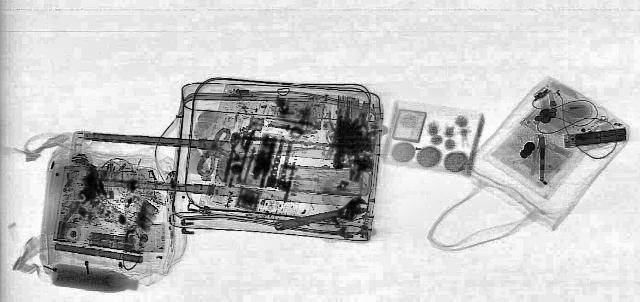Wrench: (260, 196, 382, 236)
